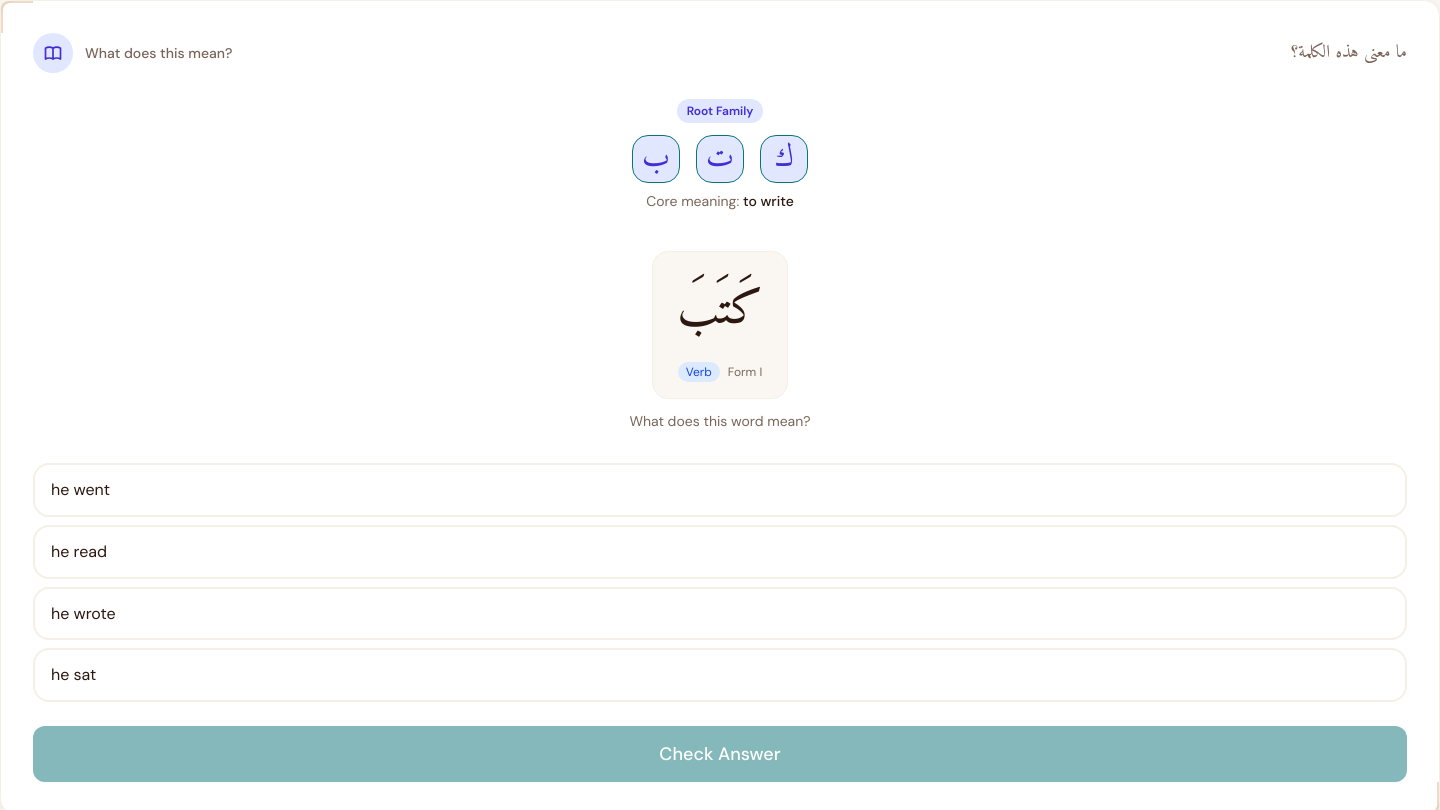
Test: RootFamilyExercise - Edge Cases › Check Answer button is disabled until option selected
Expected: the button "Check Answer" is disabled, [33,726,1407,782]
Select an option
Click the button "he wrote": x=83, y=613 [33,587,1407,640]
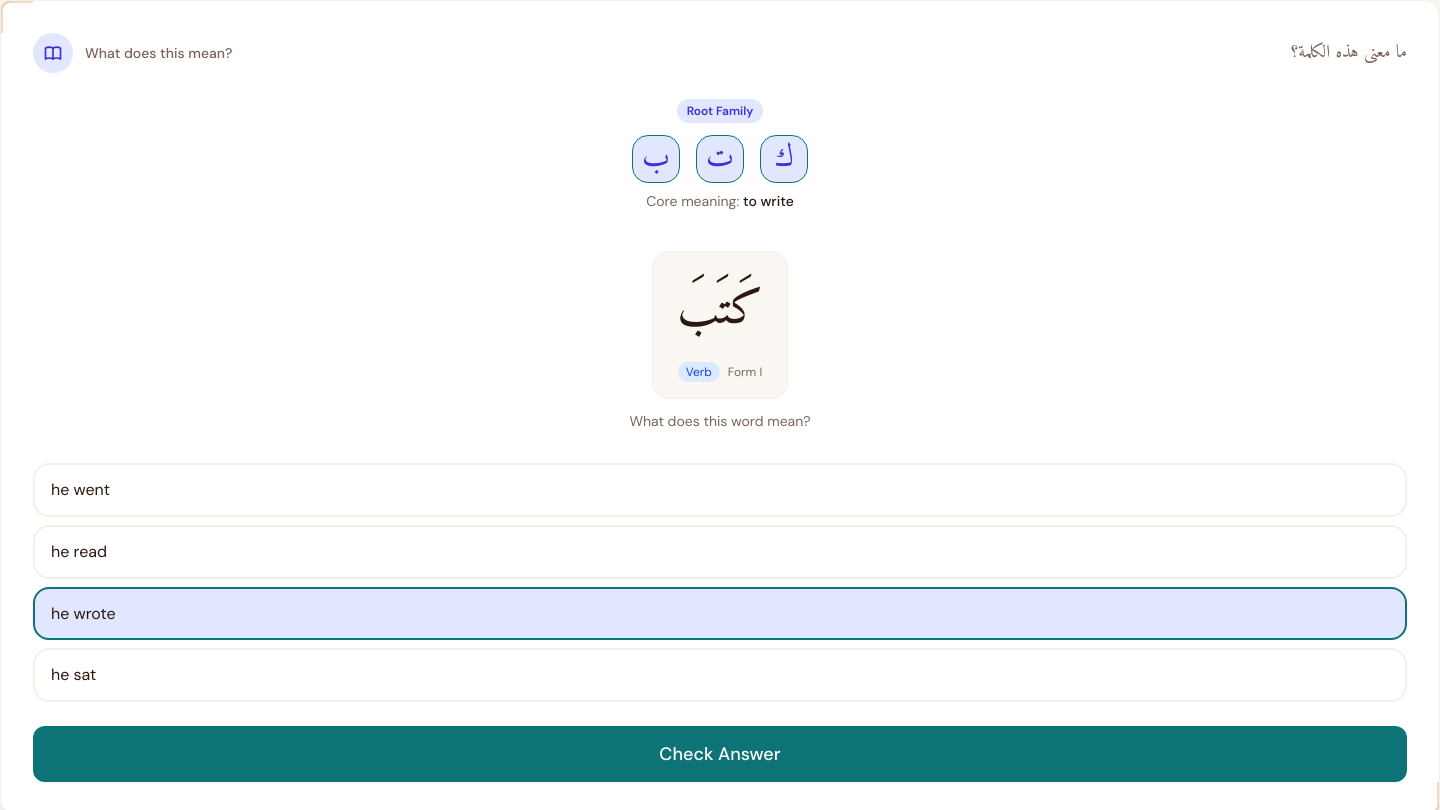
Expected: the button "Check Answer" is enabled, [33,726,1407,782]
